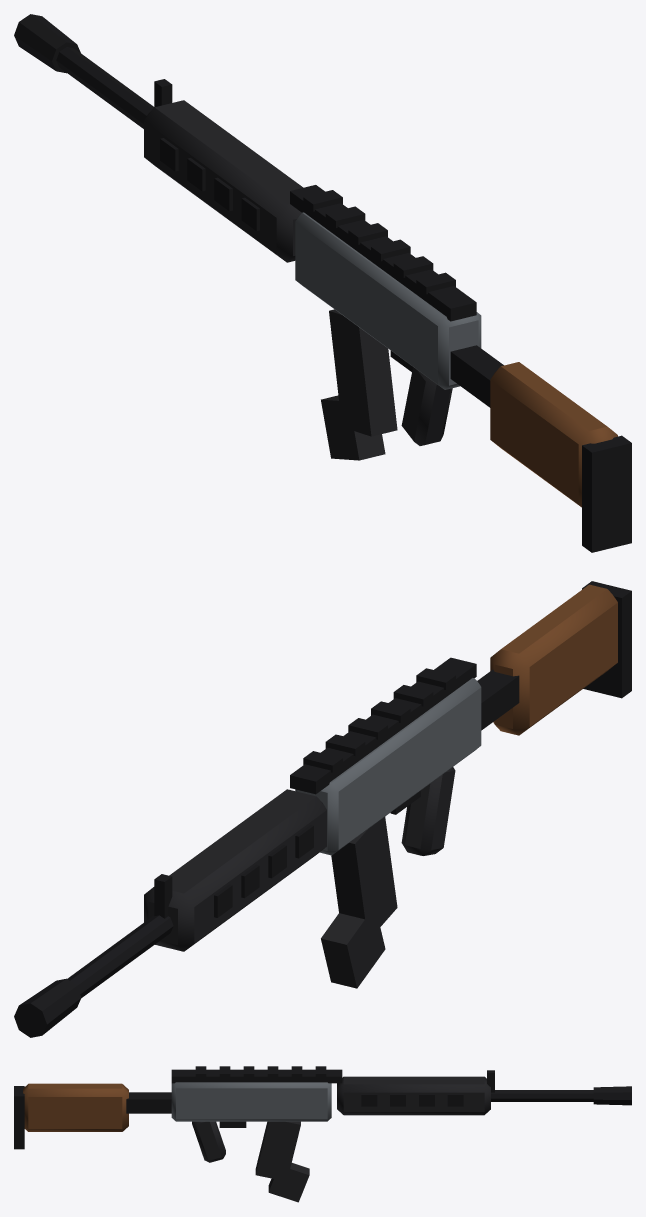
The model's file is dmr.glb.
3 views of the same model, one above another, from view 1: azimuth 30°, elevation 25°; view 2: azimuth 150°, elevation 25°; view 3: azimuth 270°, elevation 25° (orthographic). The views are drawn at different scales.
Parts seen in each view (by area): view 1: dmr__Body; view 2: dmr__Body; view 3: dmr__Body.
Part boxes in pixels (box(x1,y1,x2,y2)): dmr__Body: box(14, 14, 631, 552); dmr__Body: box(14, 581, 631, 1037); dmr__Body: box(14, 1066, 631, 1202).
Size of the model in its own units: 0.066 by 0.2665 by 1.16.
